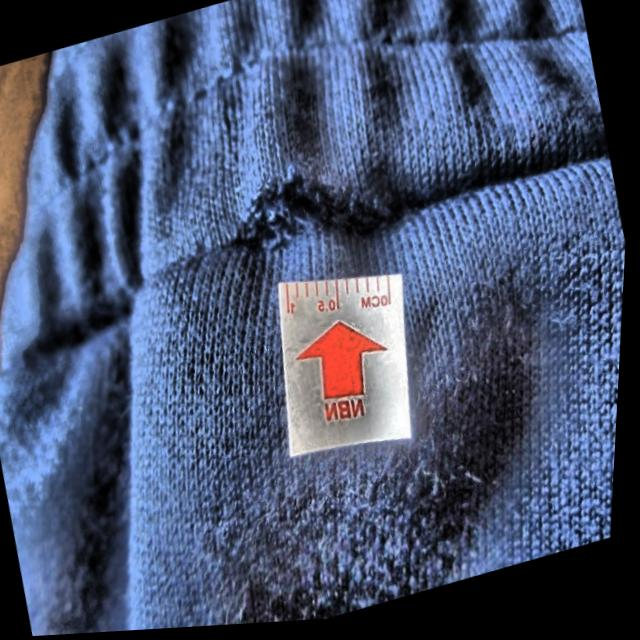seam: (188, 107, 500, 297)
